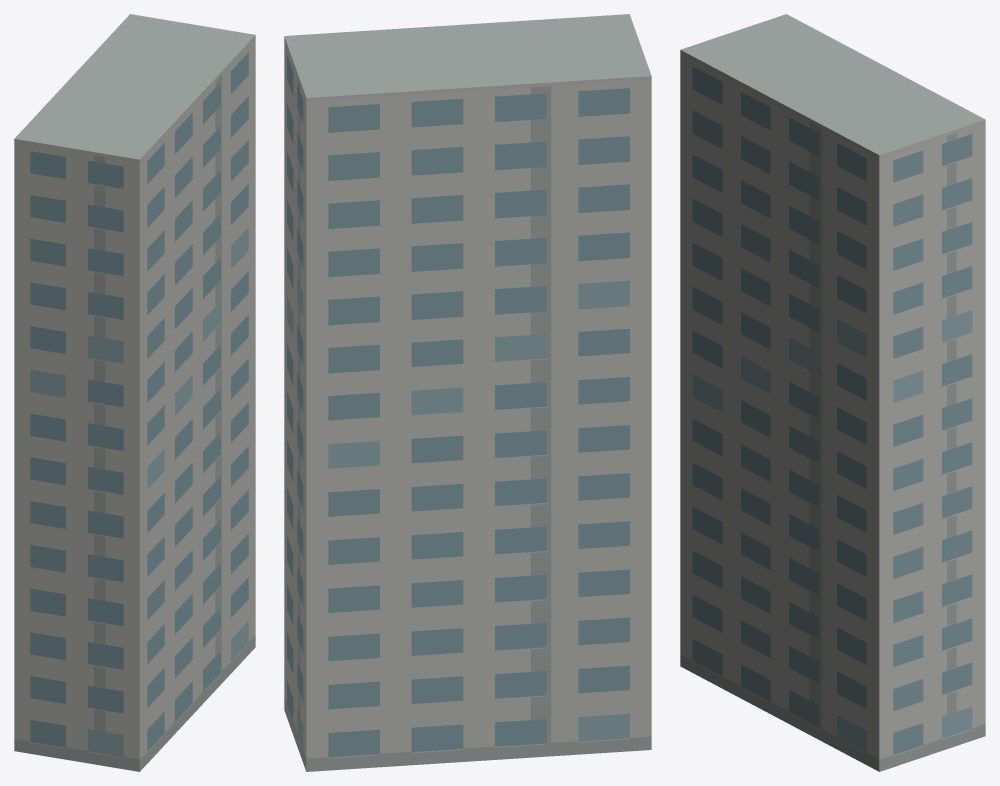
The model's file is residential-c022e879-7b8a-4e30-8035-562cf965ffe2.glb.
3 renders of one model, left to right at view 1: azimuth 30°, elevation 25°; view 2: azimuth 150°, elevation 25°; view 3: azimuth 270°, elevation 25°, orthographic. The views are drawn at different scales.
Parts seen in each view (by area): view 1: residential-c022e879-7b8a-4e30-8035-562cf965ffe2.tmp; view 2: residential-c022e879-7b8a-4e30-8035-562cf965ffe2.tmp; view 3: residential-c022e879-7b8a-4e30-8035-562cf965ffe2.tmp.
Boxes of the visible parts, x1,y1,x2,y2 form: residential-c022e879-7b8a-4e30-8035-562cf965ffe2.tmp: [14, 14, 255, 771]; residential-c022e879-7b8a-4e30-8035-562cf965ffe2.tmp: [284, 14, 651, 771]; residential-c022e879-7b8a-4e30-8035-562cf965ffe2.tmp: [680, 14, 985, 771].
Bounding box in the file's own units: 21.15 × 43 × 19.31.
